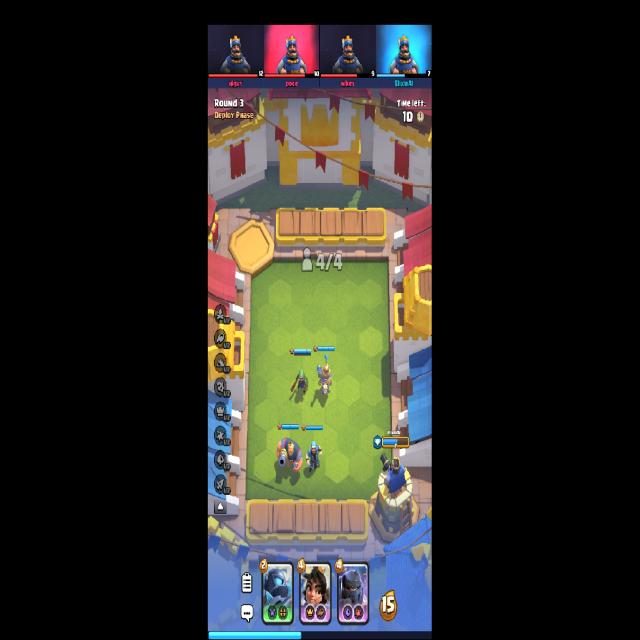bandit: (290, 369, 308, 396)
card_mega_knight: (337, 561, 369, 626)
card_mini_pekka: (262, 562, 293, 624)
card_princess: (299, 560, 332, 624)
prince: (317, 353, 332, 393)
royal_giant: (276, 438, 303, 471)
wizard: (306, 442, 322, 470)
